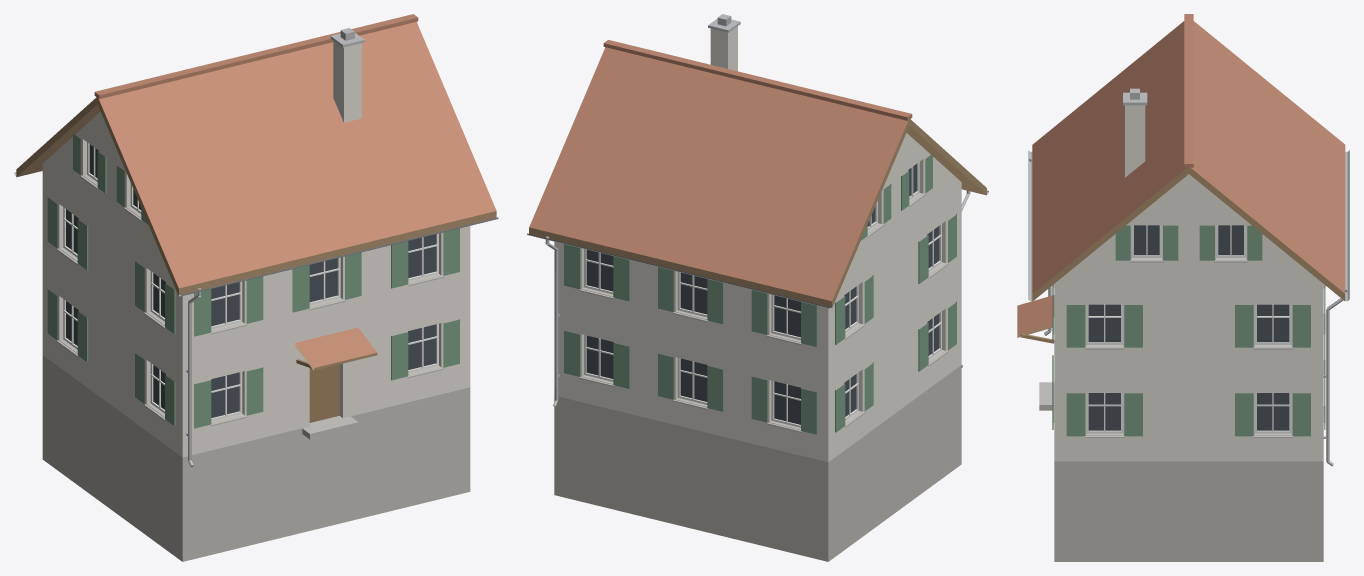
Rendered from house_gable_2_s.glb.
3 renders of one model, left to right at view 1: azimuth 30°, elevation 25°; view 2: azimuth 150°, elevation 25°; view 3: azimuth 270°, elevation 25°, orthographic. The views are drawn at different scales.
Visible parts, largest first — view 1: house_gable_2_s; view 2: house_gable_2_s; view 3: house_gable_2_s.
Part boxes in pixels (x1,y1,x2,y2): house_gable_2_s: [14, 14, 498, 561]; house_gable_2_s: [527, 14, 988, 561]; house_gable_2_s: [1017, 14, 1349, 561].
Size of the model in its own units: 10.54 by 14.2 by 9.88.
